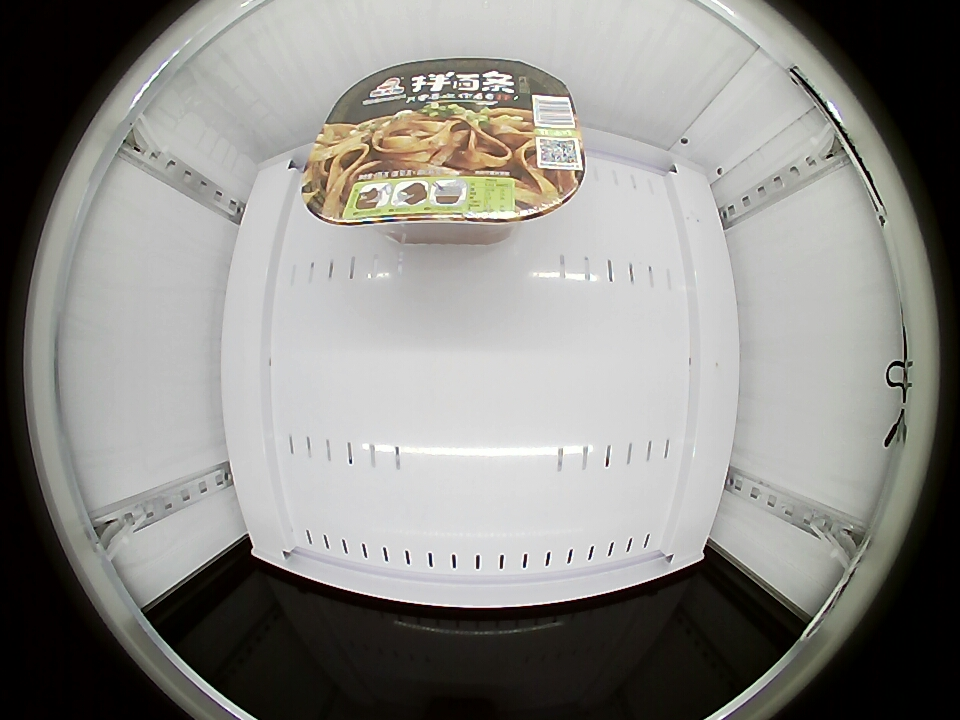gudasao: (301, 60, 586, 233)
